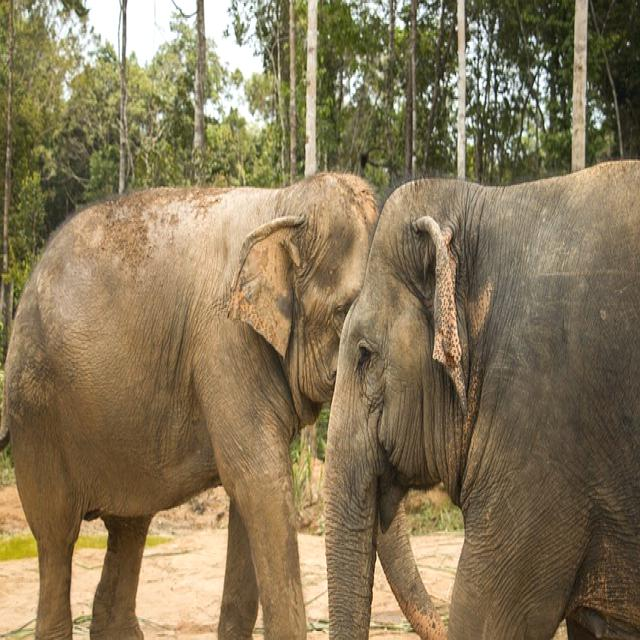FIL: (0, 144, 379, 640), (320, 177, 640, 640)
